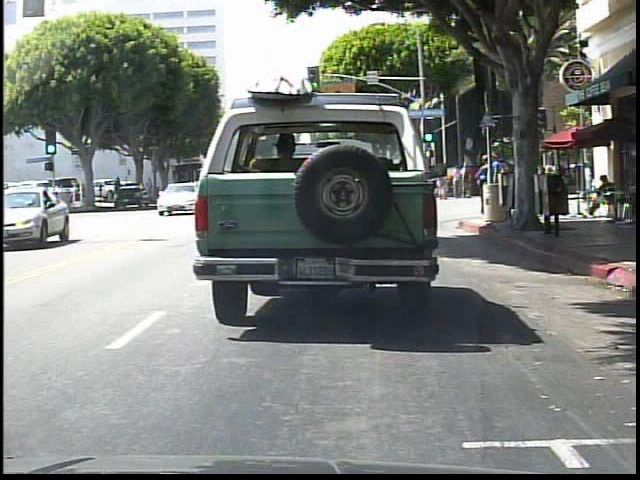person: (586, 171, 620, 217), (489, 153, 506, 216), (477, 156, 492, 214), (494, 158, 509, 214), (535, 163, 549, 206), (460, 161, 474, 200), (525, 167, 537, 205), (583, 161, 594, 199), (454, 165, 464, 199), (438, 167, 448, 201), (428, 173, 438, 203)
